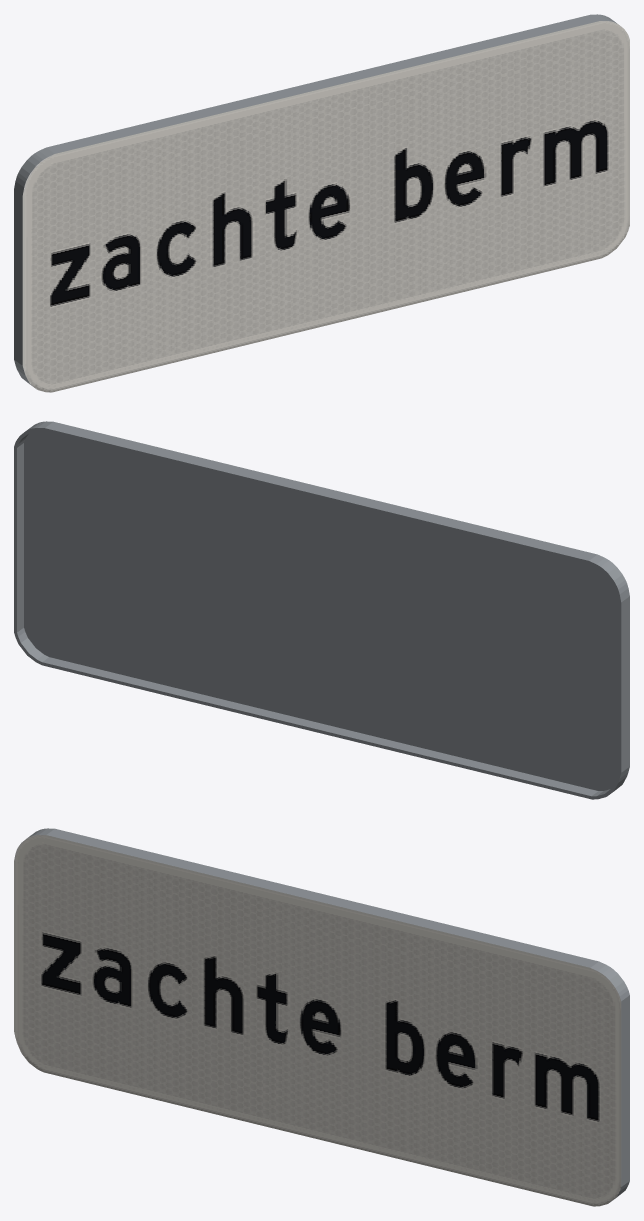
3 renders of one model, top to bottom at view 1: azimuth 30°, elevation 25°; view 2: azimuth 150°, elevation 25°; view 3: azimuth 330°, elevation 25°, orthographic.
Visible parts, largest first — view 1: cat_8b98b6ac1ebef6a0; view 2: cat_8b98b6ac1ebef6a0; view 3: cat_8b98b6ac1ebef6a0.
Boxes of the visible parts, left/top/right/bottom form: cat_8b98b6ac1ebef6a0: left=14, top=14, right=629, bottom=392; cat_8b98b6ac1ebef6a0: left=14, top=421, right=629, bottom=799; cat_8b98b6ac1ebef6a0: left=14, top=828, right=629, bottom=1206.
Size of the model in its own units: 0.6 by 0.015 by 0.2246.
2 materials, 1 textured.
